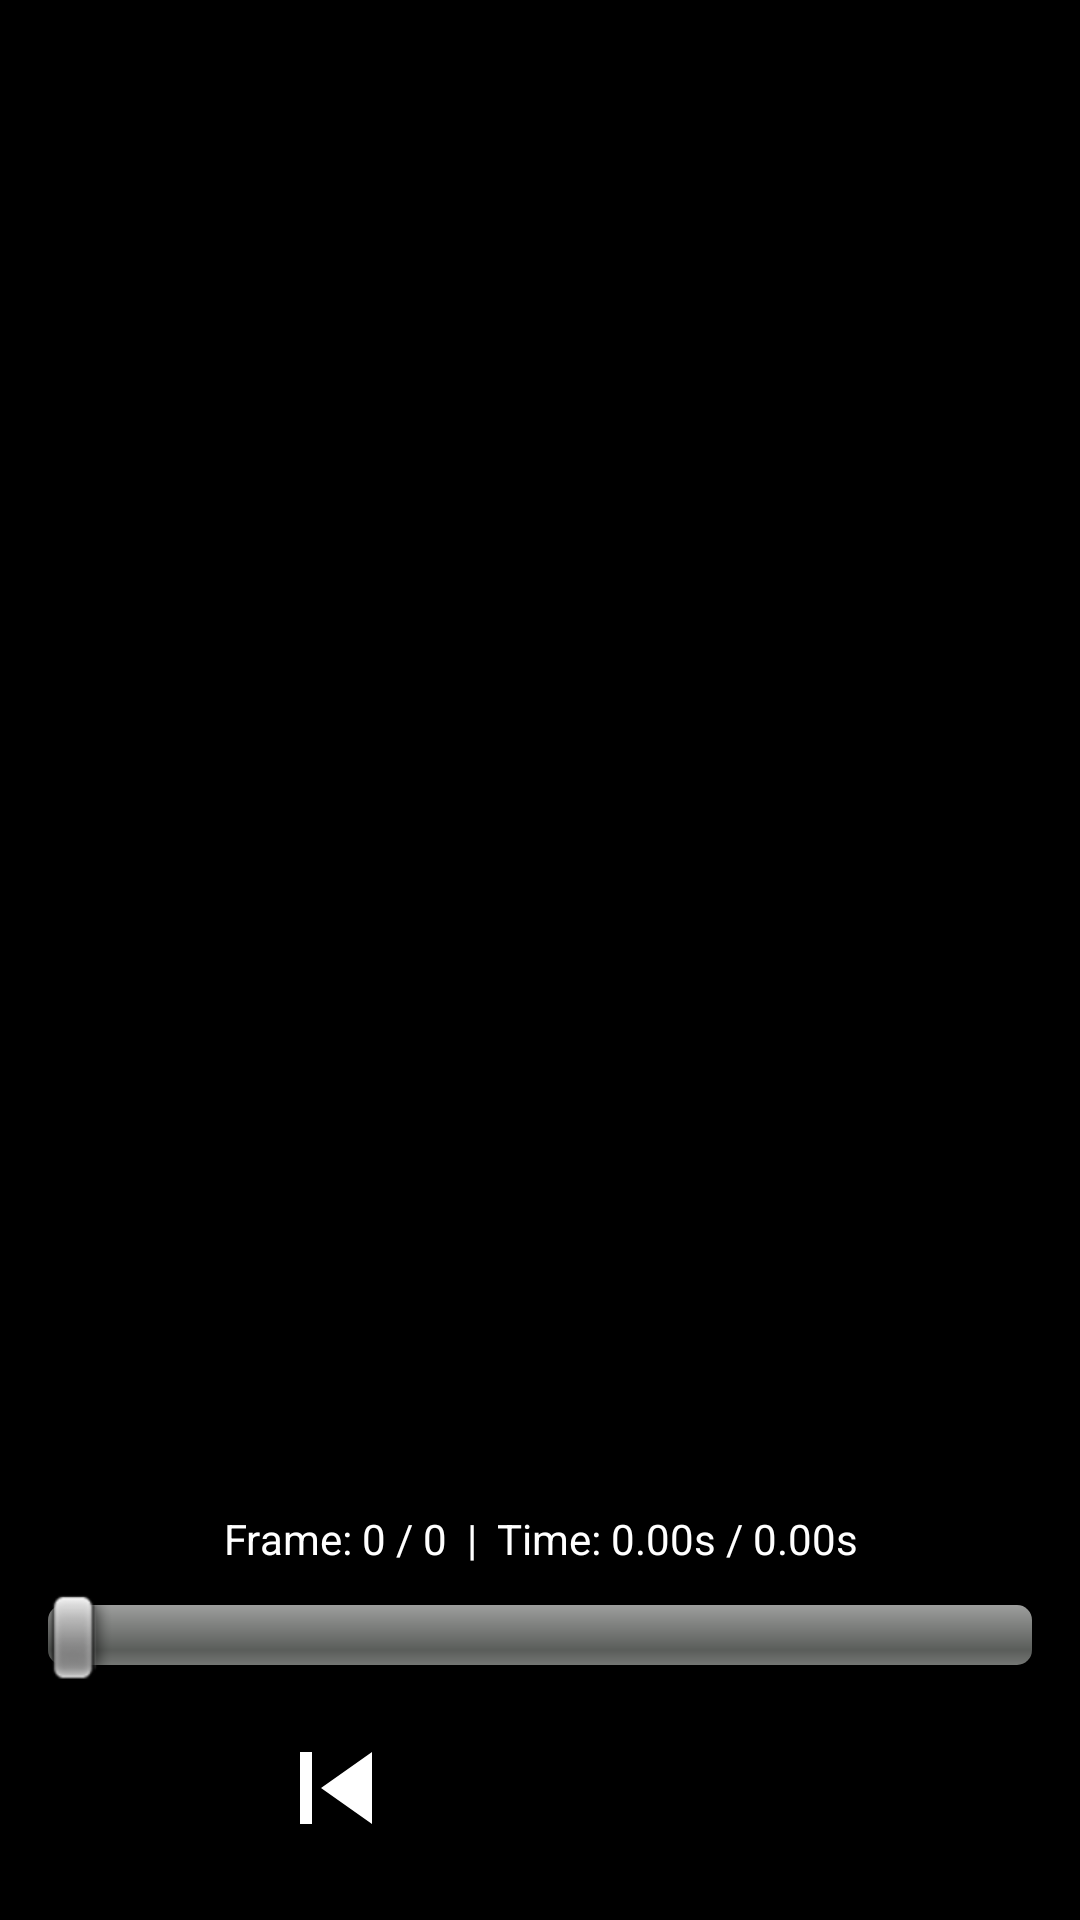

Named icons in this screenshot (1080*1920) and their bounding boxes, bbox=(x1, y1, x2, y2):
Previous frame: bbox=(300, 1752, 372, 1824)
